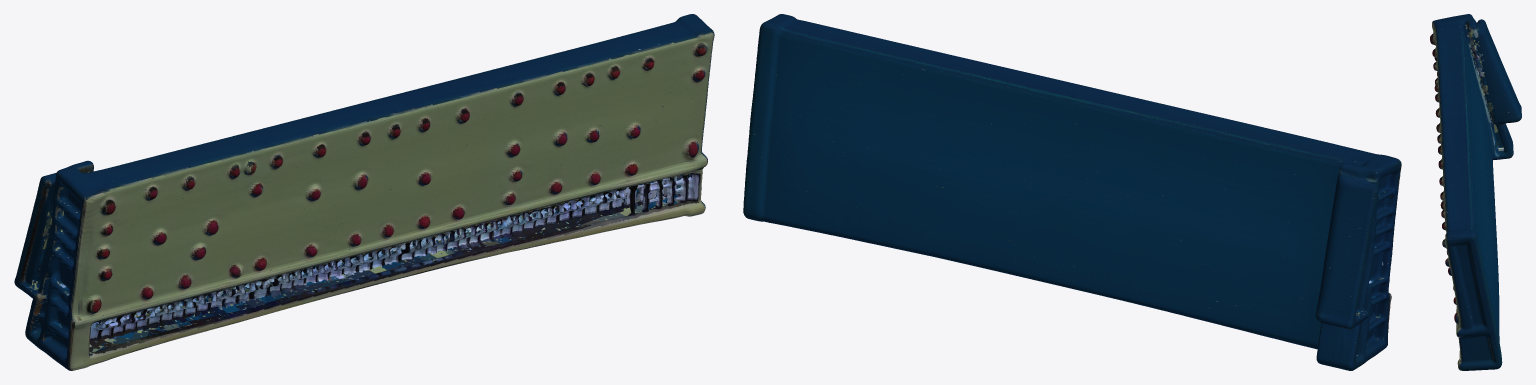
Rendered from painted.glb.
The picture shows the model from 3 angles, left to right: view 1: azimuth 30°, elevation 25°; view 2: azimuth 150°, elevation 25°; view 3: azimuth 270°, elevation 25°; orthographic projection. The views are drawn at different scales.
Visible parts, largest first — view 1: geometry_0; view 2: geometry_0; view 3: geometry_0.
Part boxes in pixels (x1,y1,x2,y2): geometry_0: (14,14,714,370); geometry_0: (743,14,1401,370); geometry_0: (1430,14,1521,370).
Size of the model in its own units: 2 by 0.5717 by 0.3457.
Materials: 1 (1 with a texture image).
